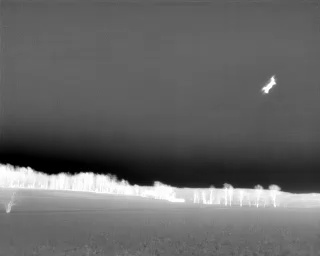DRONE: (258, 70, 280, 99)
